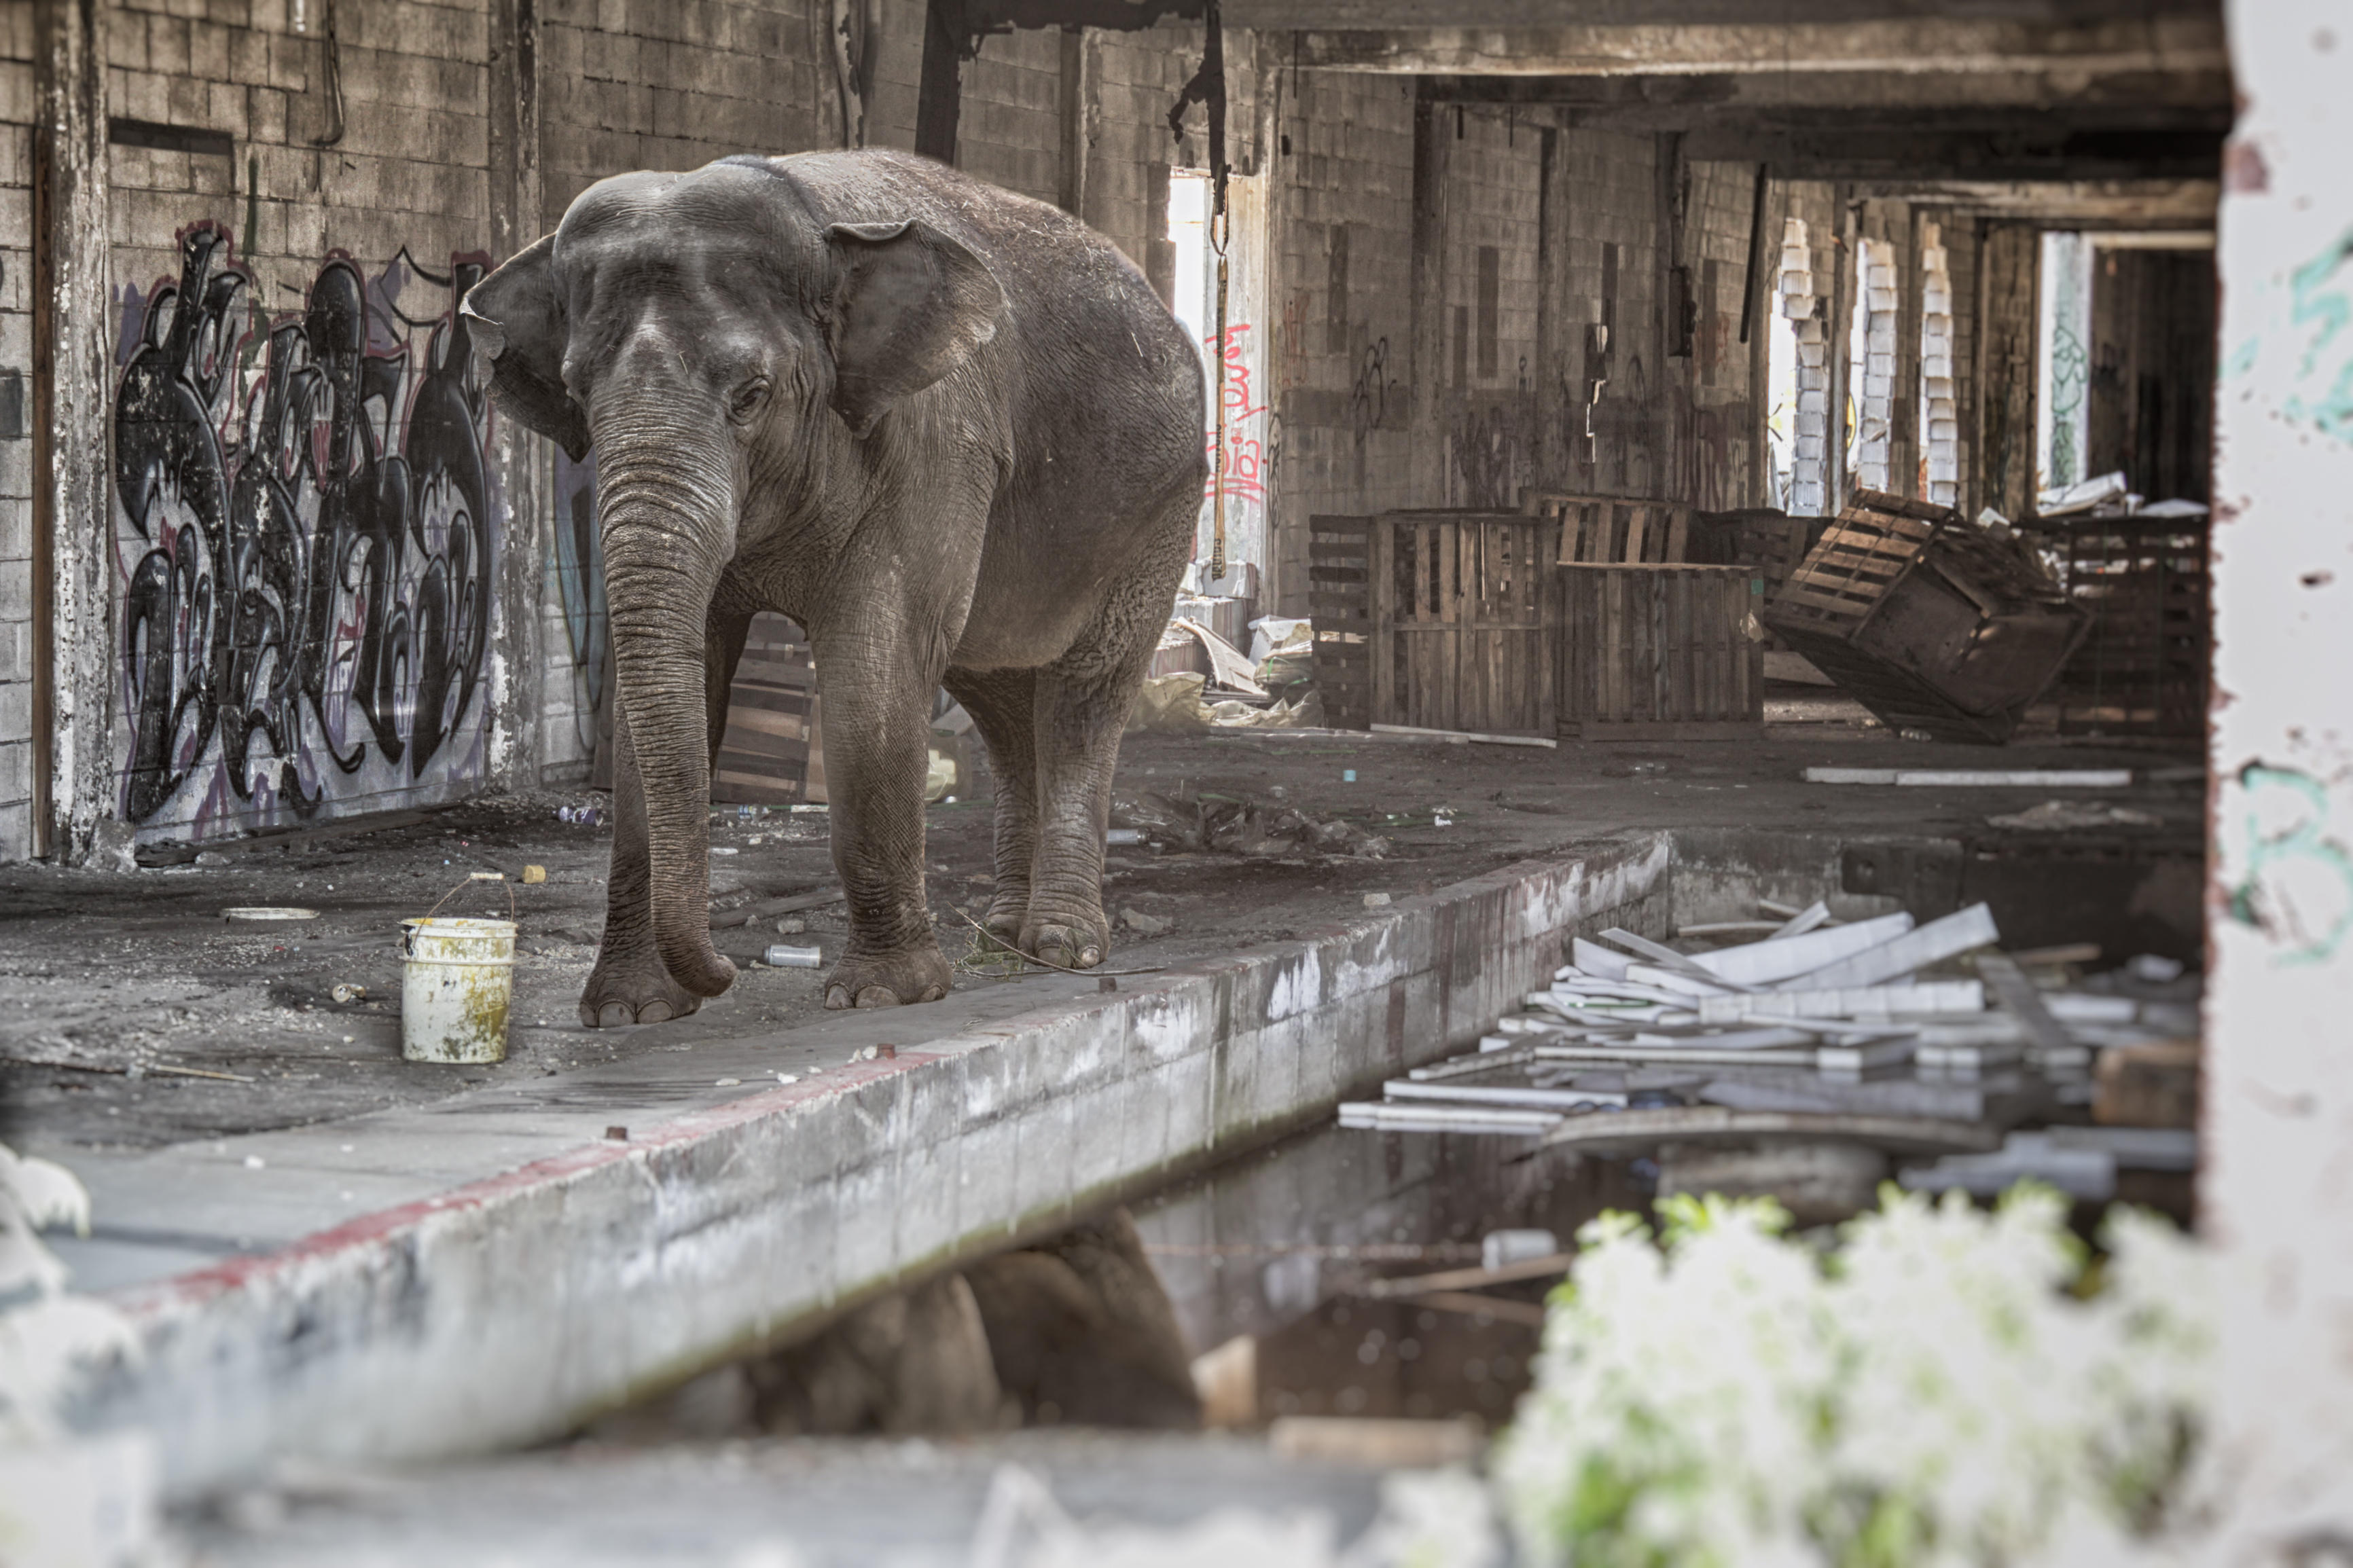elephant: (469, 152, 1226, 1027)
